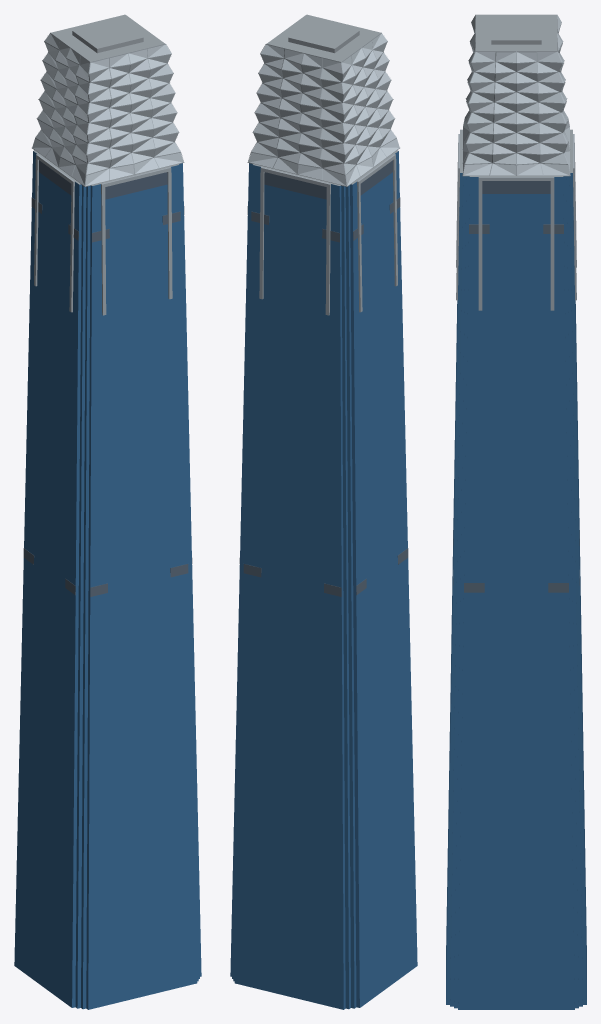
Rendered from kl-exchange-106.detail.glb.
3 views of the same model, side by side, from view 1: azimuth 30°, elevation 25°; view 2: azimuth 150°, elevation 25°; view 3: azimuth 270°, elevation 25° (orthographic).
Visible parts, largest first — view 1: The Exchange 106; view 2: The Exchange 106; view 3: The Exchange 106.
Part boxes in pixels (x1,y1,x2,y2): The Exchange 106: [14, 14, 201, 1009]; The Exchange 106: [230, 14, 417, 1009]; The Exchange 106: [446, 14, 586, 1009].
Size of the model in its own units: 65.6 by 454 by 61.
